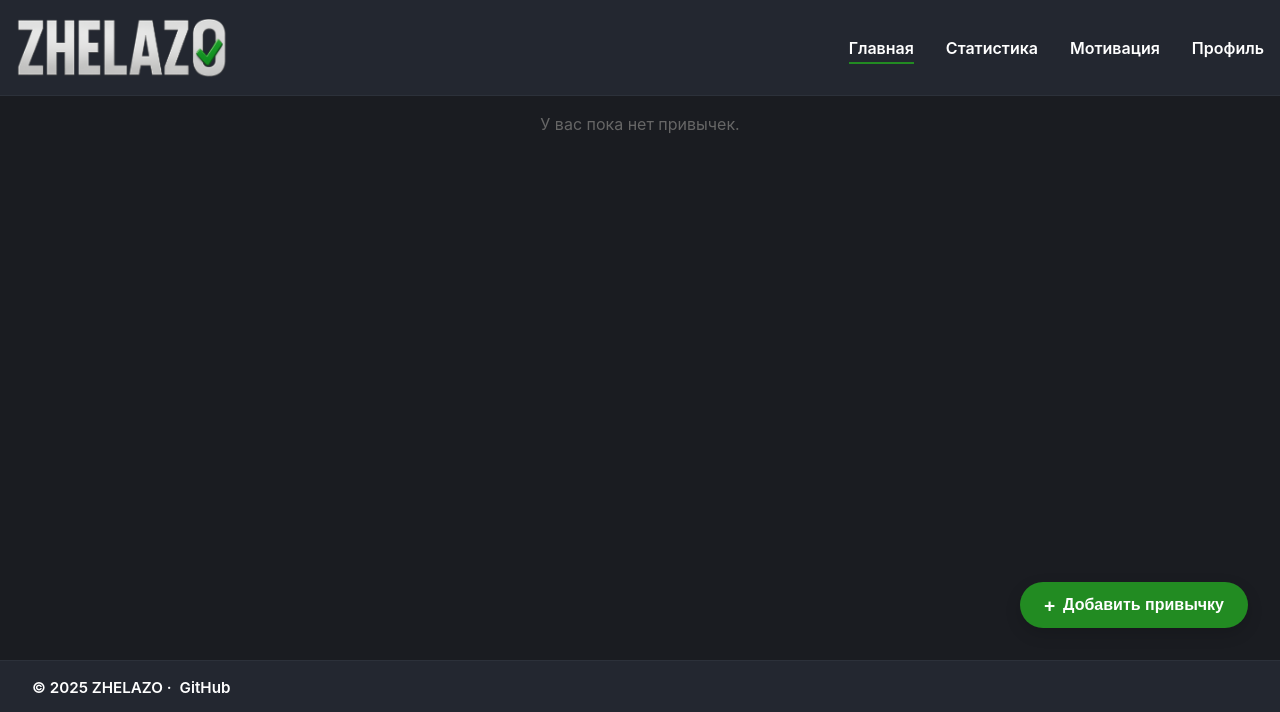
Test: Zhelazo App E2E Tests › can navigate to profile page and edit profile
Click the link "Профиль". click: coordinates (1228, 48)
box: x1=1192 y1=36 x2=1264 y2=60
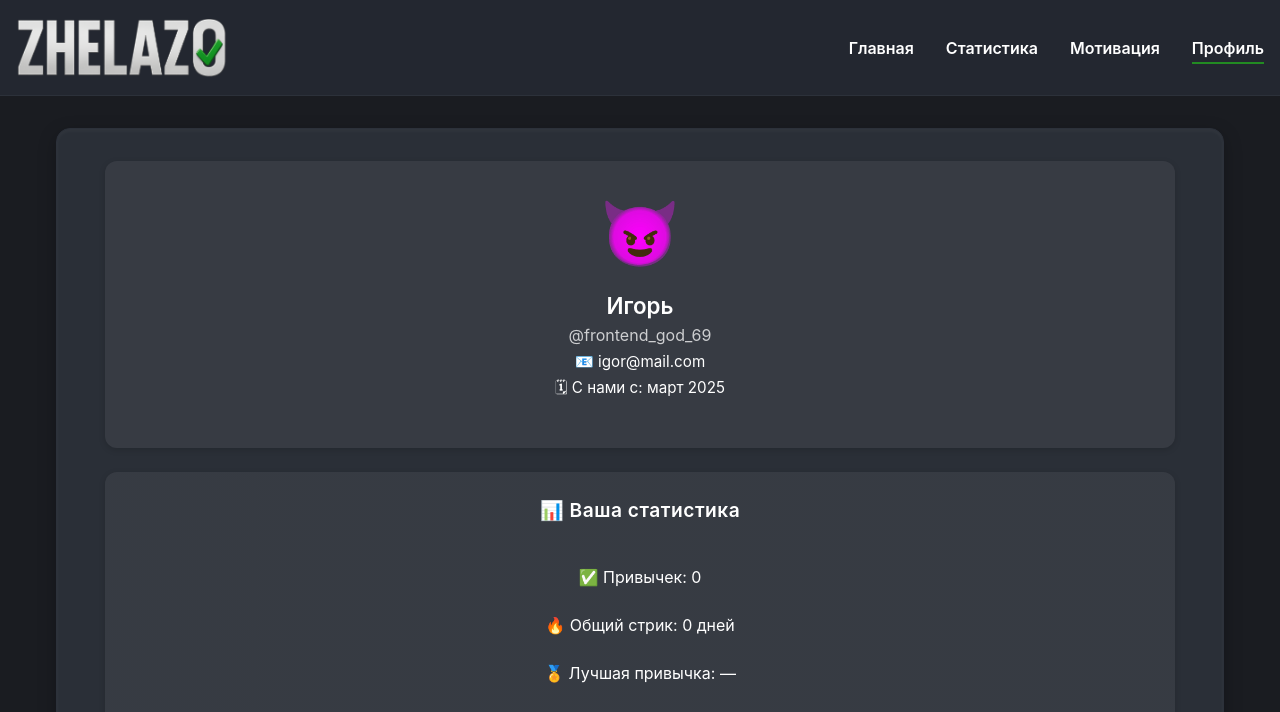
Scroll
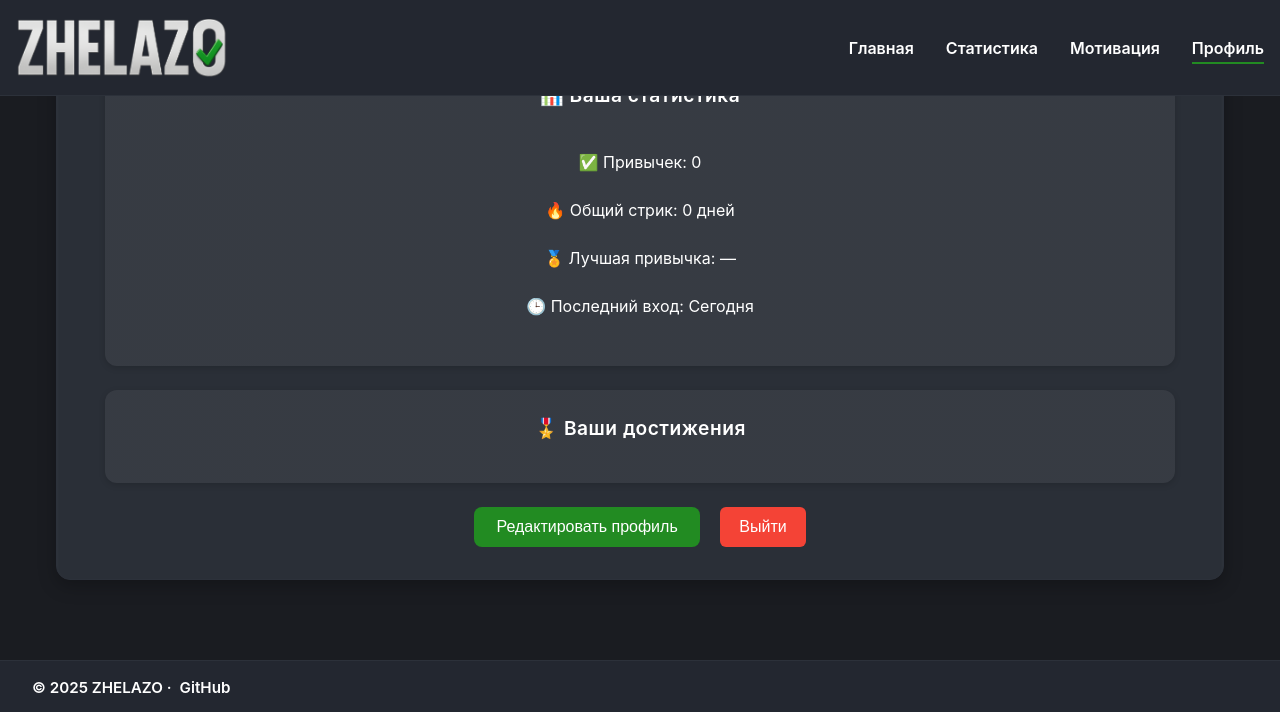
Click the button "Редактировать профиль". click: coordinates (587, 527)
box: x1=474 y1=507 x2=700 y2=547
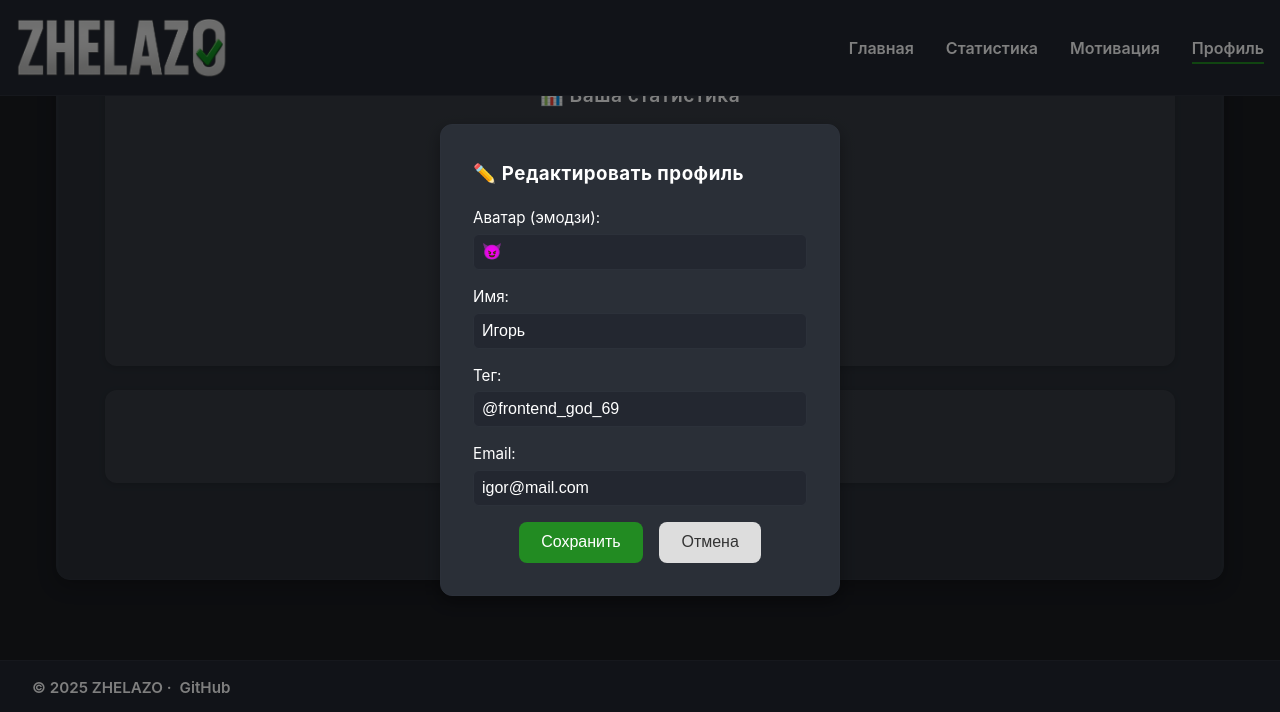
Now the heading "✏️ Редактировать профиль" is shown, box x1=473 y1=162 x2=744 y2=185
Replace the text in the field labelled "Имя:" with "Cypress User". click: coordinates (640, 331)
box: x1=473 y1=313 x2=807 y2=349
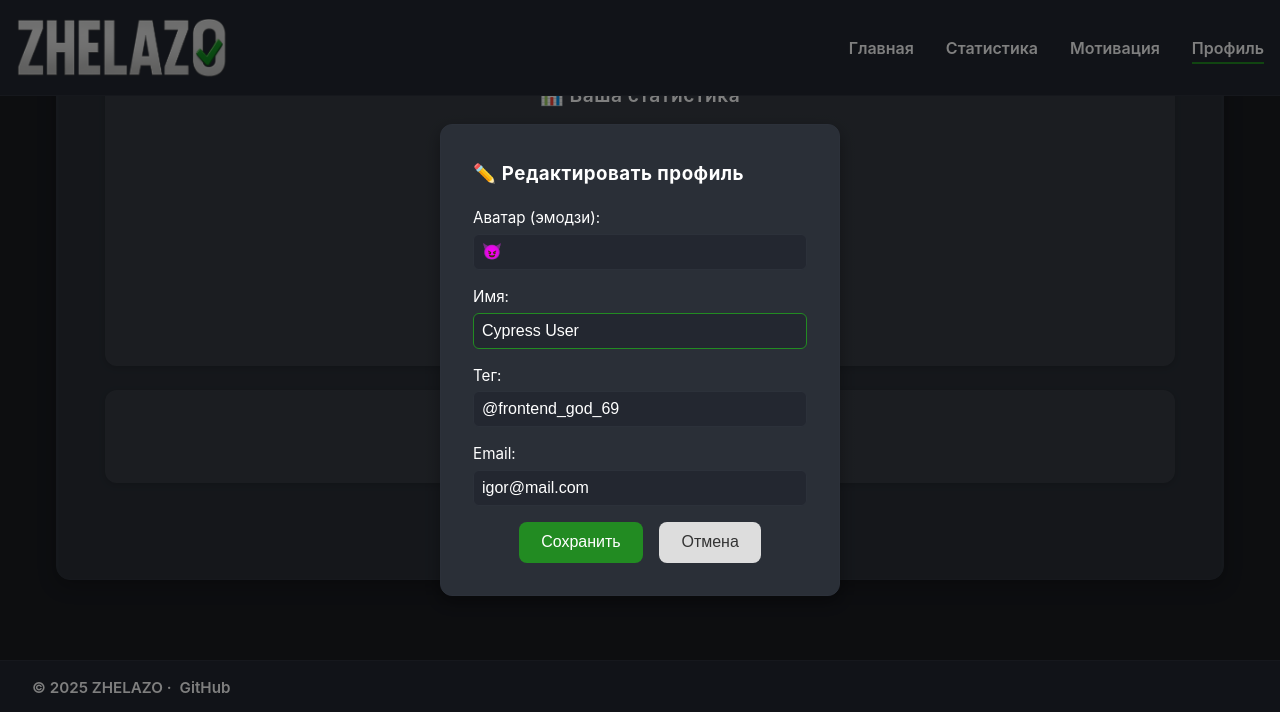
Replace the text in the field labelled "Email:" with "cypress@test.com". click: coordinates (640, 488)
box: x1=473 y1=470 x2=807 y2=506
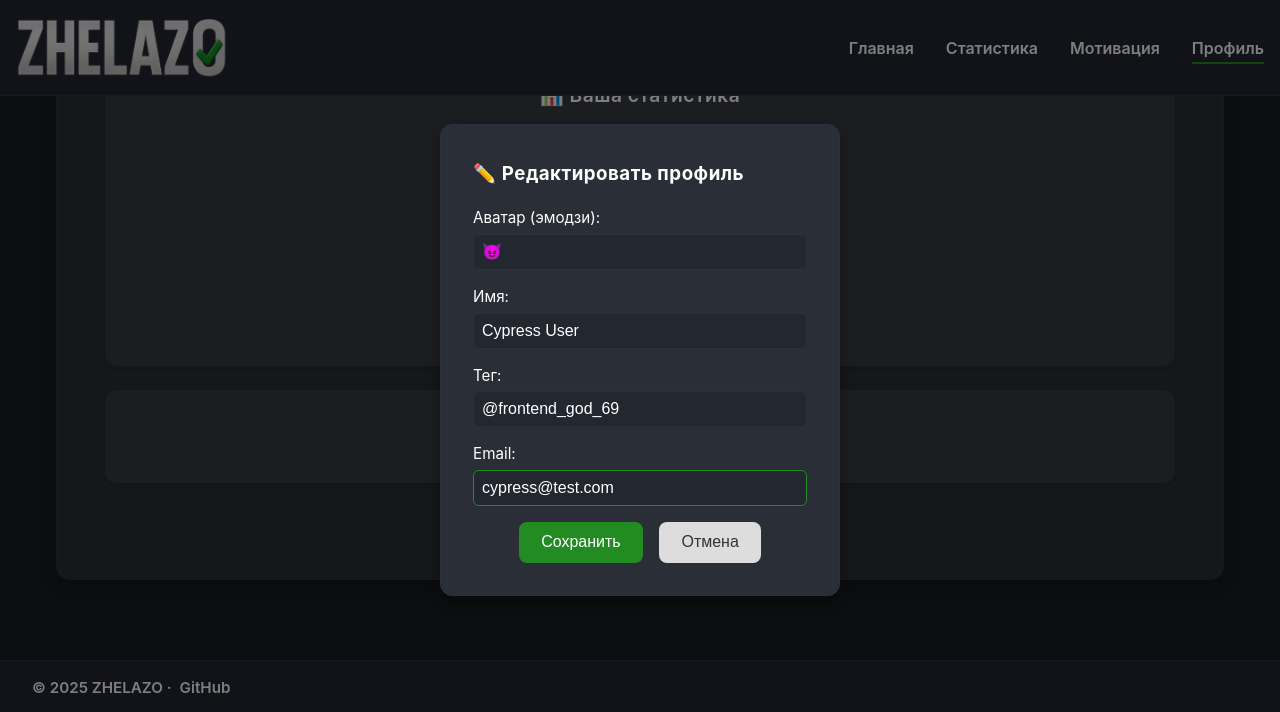
Click the button "Сохранить". click: coordinates (581, 542)
box: x1=519 y1=522 x2=643 y2=562
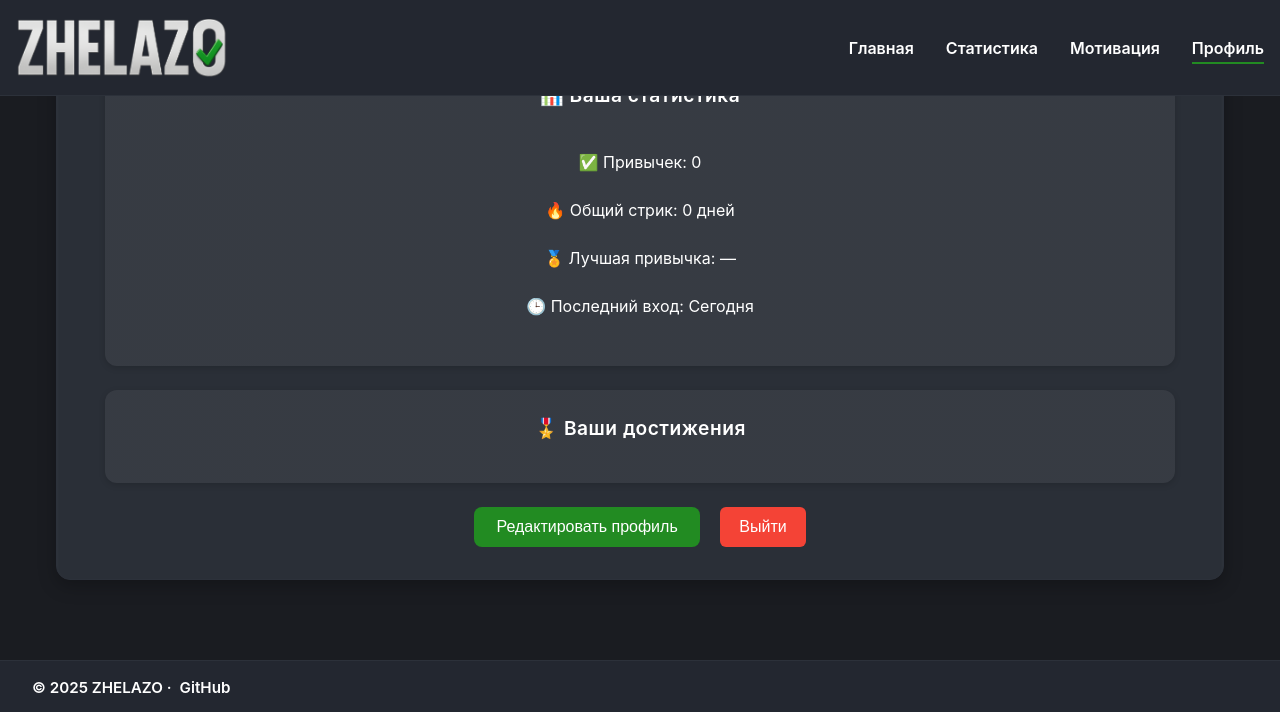
Now the heading "✏️ Редактировать профиль" is gone
